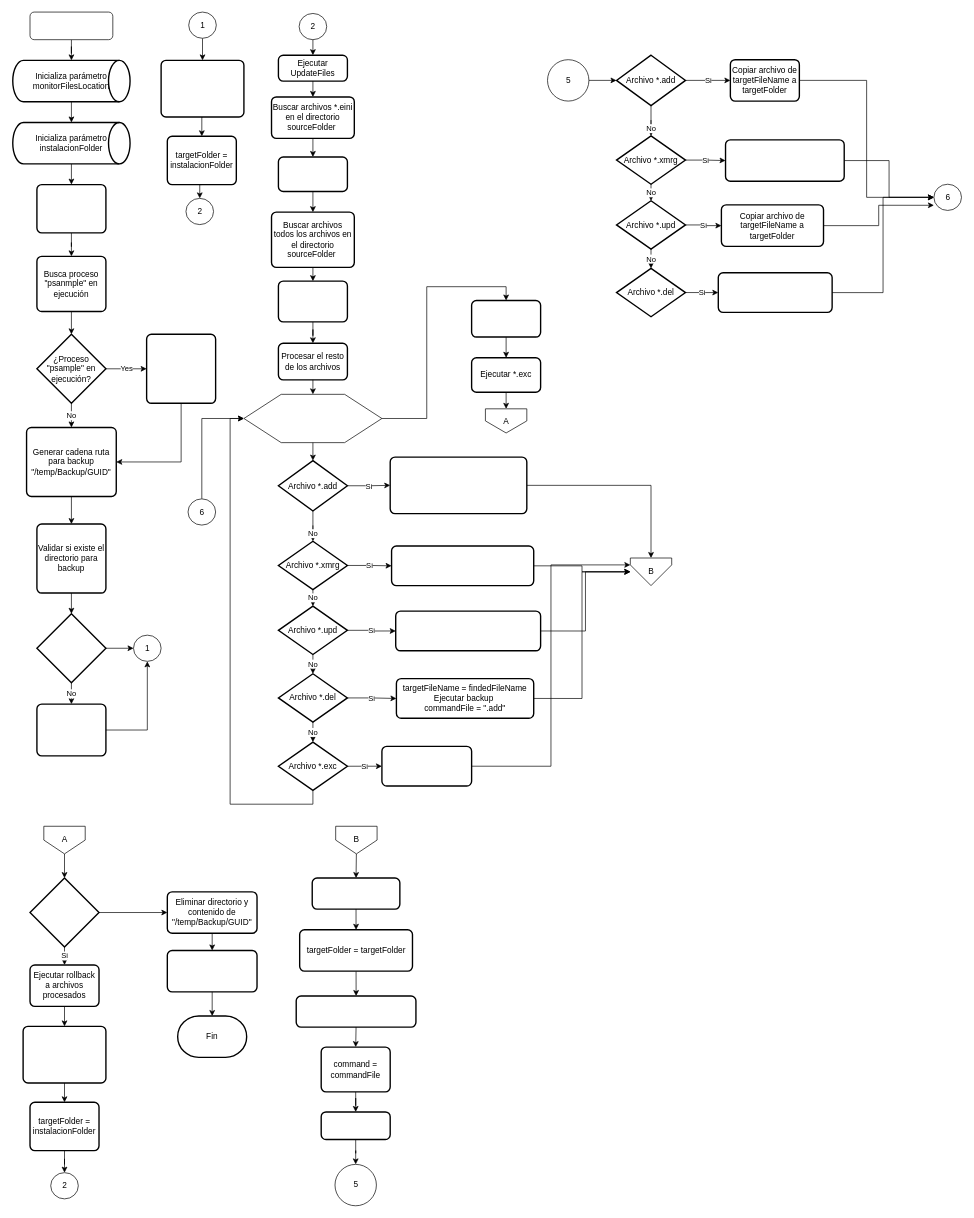
Image size: 974x1218. Some labels were removed from this diagram. Each missing label, with the centre of its shape:
backupDir = "/temp/Backup/GUID": [355,893]
Borrar archivo targetFileName en targetFolder: [774,292]
Buscar archivos .exc en sourceFolder: [506,318]
Cerrar proceso "psample": [181,368]
Crear directorio backup: [71,729]
Desde 1 Hasta "todos los archivos": [312,418]
Ejecuta backup: [355,1125]
Ejecuta monitor: [71,208]
Ejecutar archivo *.exc: [426,765]
Ejecutar los archivos *.eini encontrados: [312,174]
Eliminar directorio y contenido de monitorFilesLocation: [211,970]
Excluir archivos *.eini y *.eend: [312,301]
Inicio: [71,25]
originalFileName = targetFileName: [355,1011]
Procesar archivo XML para actualizar targetFileName a targetFolder: [784,160]
sourceFolder = "/temp/Backup/GUID": [64,1054]
sourceFolder = monitorFilesLocation: [202,88]
targetFileName = findedFileName Ejecutar backup commandFile = " .upd": [462,565]
targetFileName = findedFileName Ejecutar backup commandFile = ".del": [458,485]
targetFileName = findedFileName Ejecutar backup commandFile = ".upd": [468,630]
¿Error al actualizar?: [64,912]
¿Existe directorio?: [71,648]
